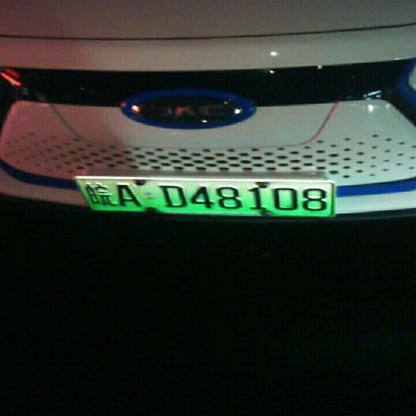lp: (74, 177, 334, 216)
